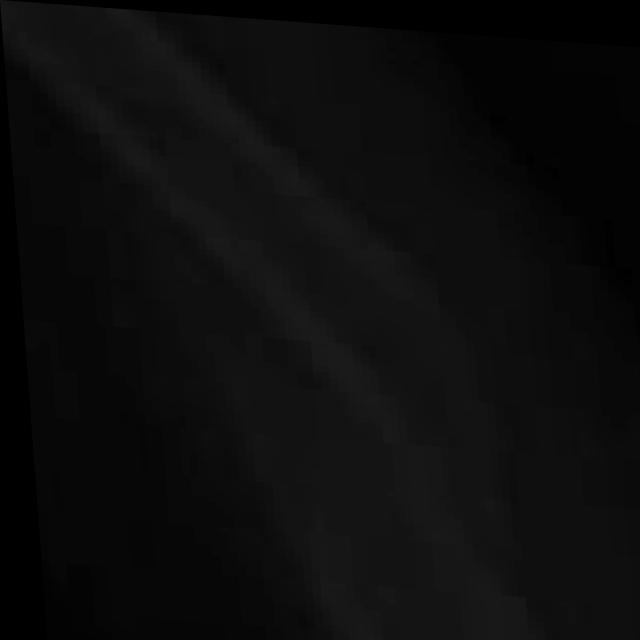fracture: (6, 15, 640, 640)
